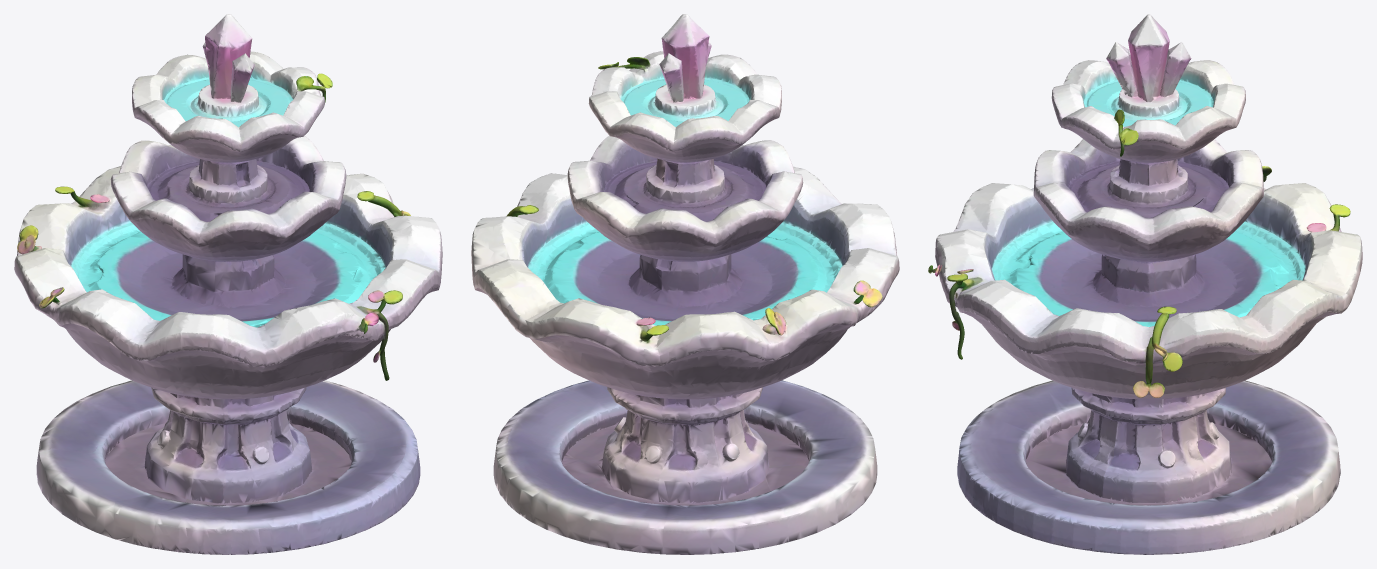
Rendered from prop_fountain.glb.
3 views of the same model, side by side, from view 1: azimuth 30°, elevation 25°; view 2: azimuth 150°, elevation 25°; view 3: azimuth 270°, elevation 25° (orthographic).
Parts seen in each view (by area): view 1: tripo_node_9c7b82f9-c371-479b-ac81-cda4a28944bf; view 2: tripo_node_9c7b82f9-c371-479b-ac81-cda4a28944bf; view 3: tripo_node_9c7b82f9-c371-479b-ac81-cda4a28944bf.
Part boxes in pixels (<box>): tripo_node_9c7b82f9-c371-479b-ac81-cda4a28944bf: <box>14,14,442,554</box>; tripo_node_9c7b82f9-c371-479b-ac81-cda4a28944bf: <box>471,14,899,554</box>; tripo_node_9c7b82f9-c371-479b-ac81-cda4a28944bf: <box>928,14,1362,554</box>.
Size of the model in its own units: 0.8673 by 0.9999 by 0.8574.
Materials: 1 (1 with a texture image).
